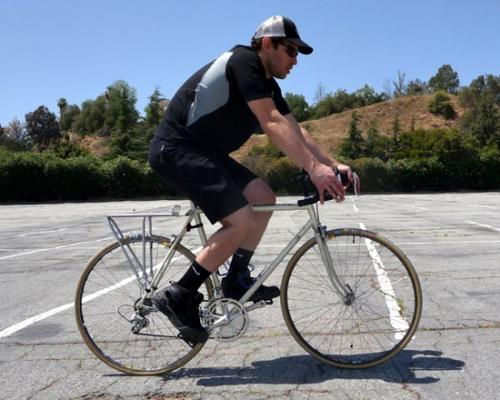person: (150, 16, 353, 345)
